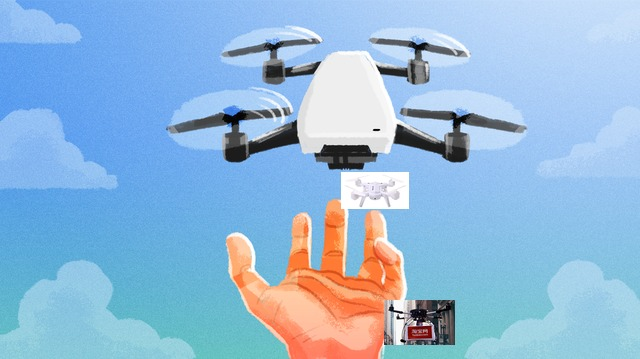drone: (168, 26, 527, 170), (384, 300, 455, 345), (341, 172, 409, 209)
